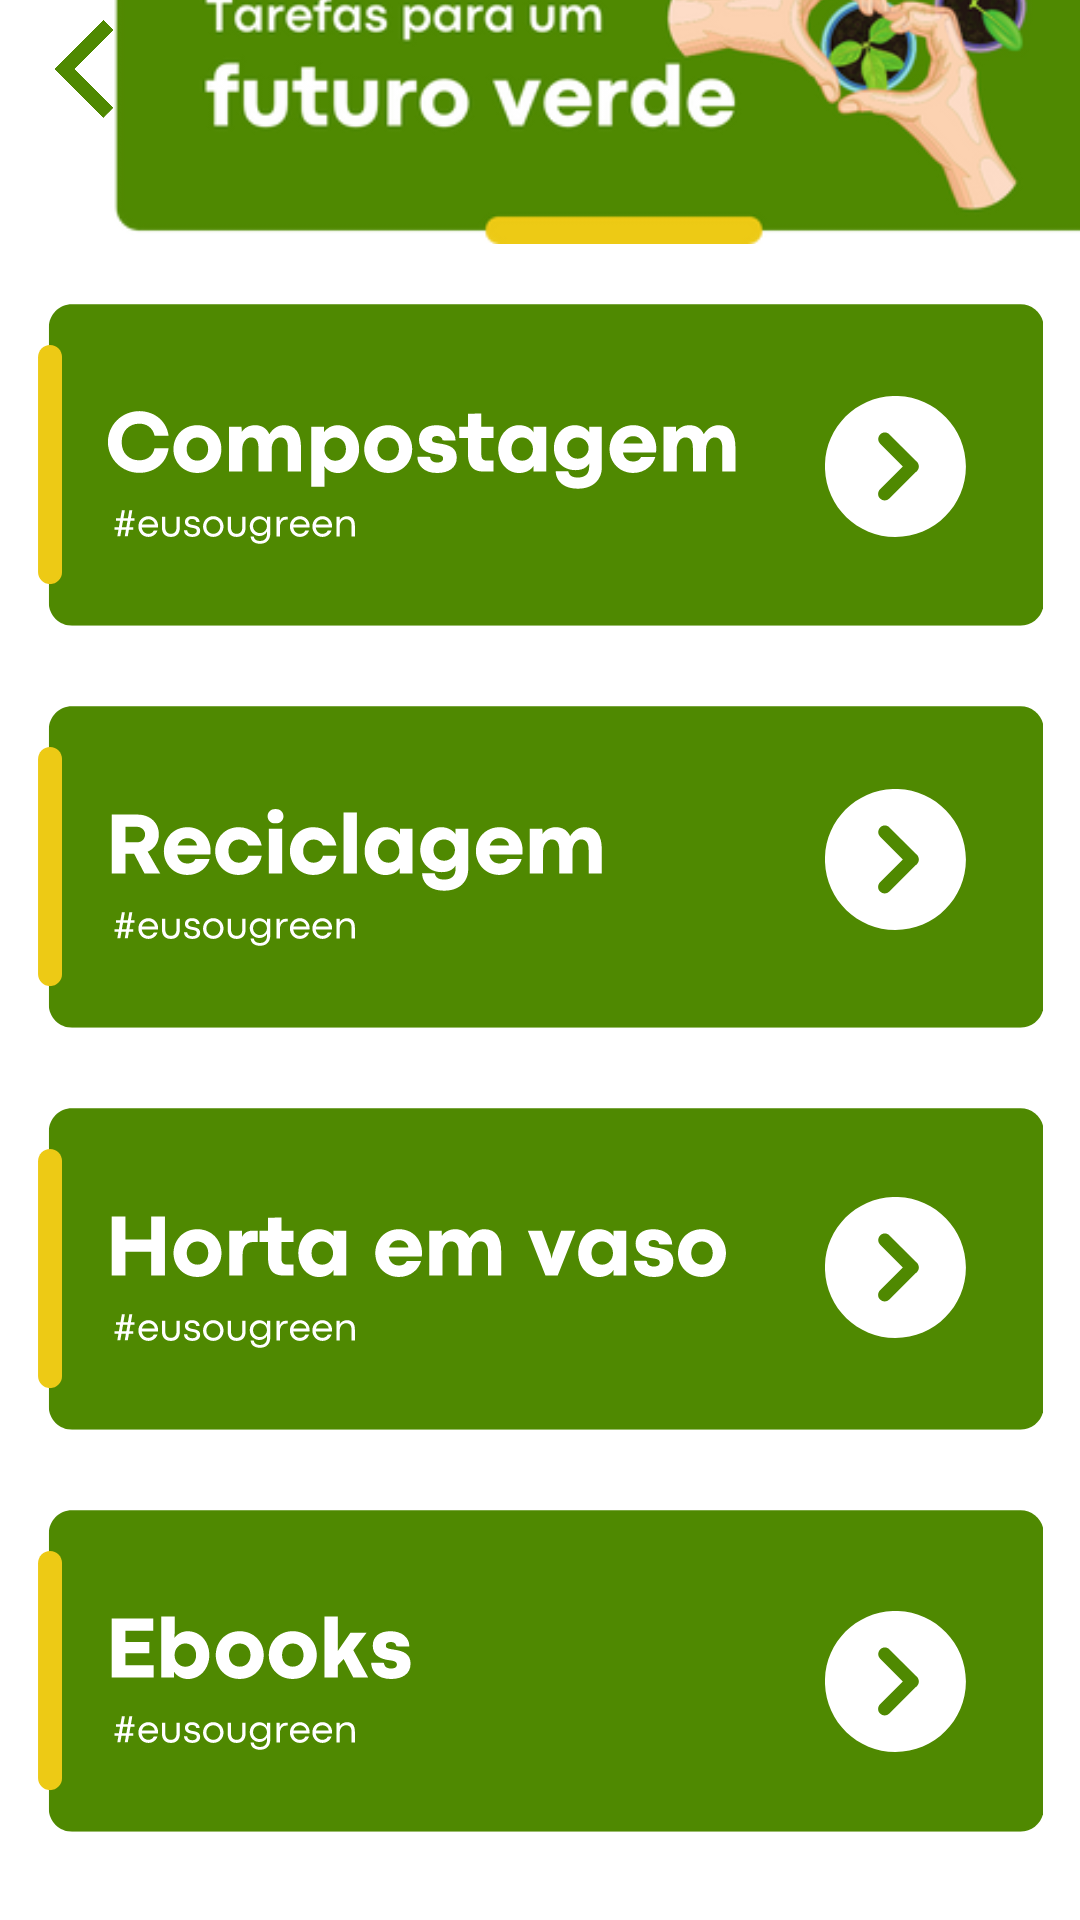

Where to tap for icons on this 1080 x 1920 app screen, as (x,y):
back: (59,69)
